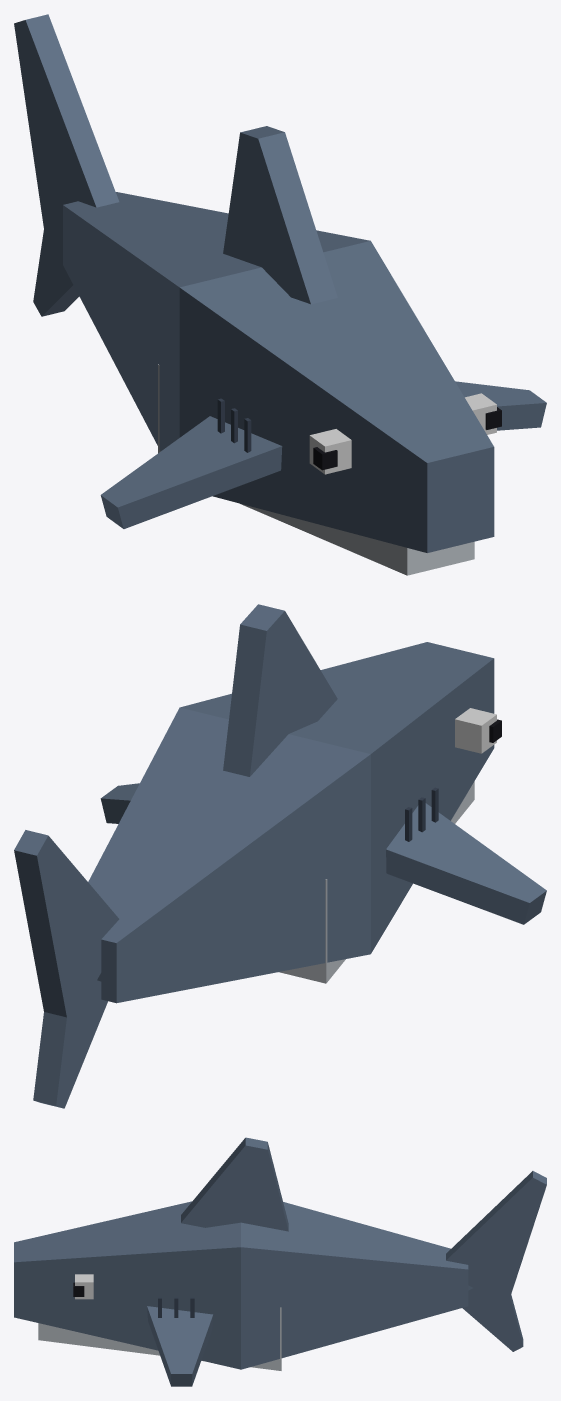
Rendered from shark.glb.
The picture shows the model from 3 angles, top to bottom: view 1: azimuth 30°, elevation 25°; view 2: azimuth 150°, elevation 25°; view 3: azimuth 270°, elevation 25°; orthographic projection. The views are drawn at different scales.
Visible parts, largest first — view 1: shark; view 2: shark; view 3: shark.
Boxes of the visible parts, bbox=[...] form: shark: bbox=[14, 14, 546, 575]; shark: bbox=[14, 604, 546, 1108]; shark: bbox=[14, 1137, 546, 1386].
Size of the model in its own units: 1.12 by 0.8457 by 1.97.
